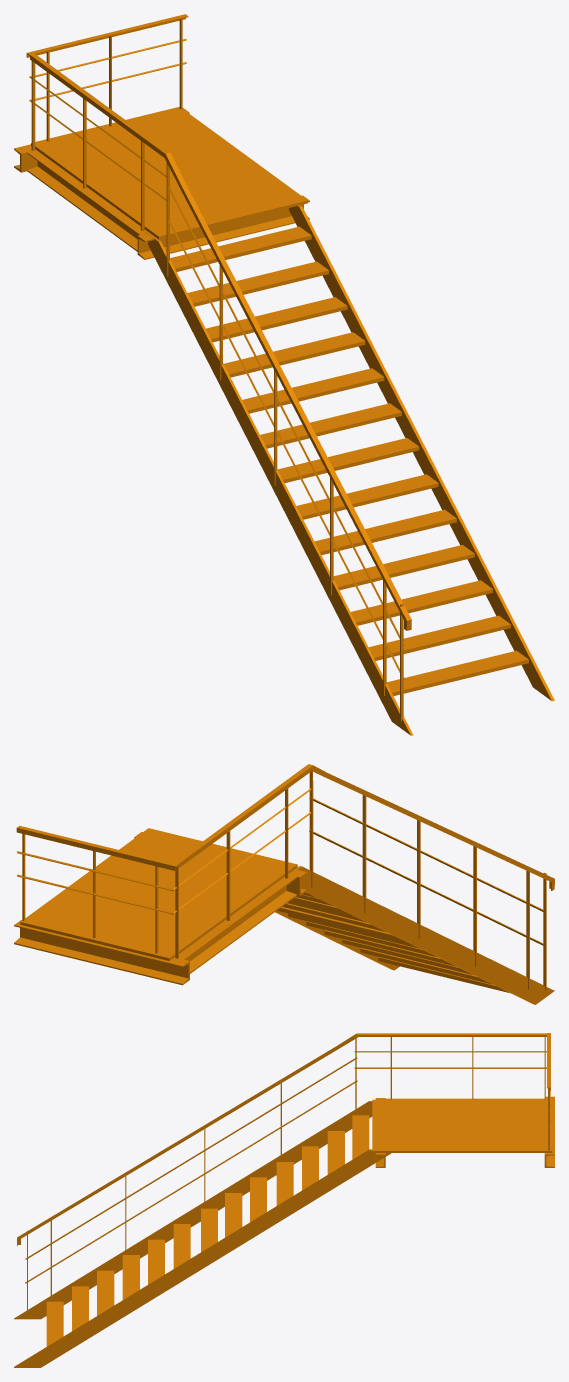
File: Stairs_03.FBX
3 views of the same model, one above another, from view 1: azimuth 30°, elevation 25°; view 2: azimuth 150°, elevation 25°; view 3: azimuth 270°, elevation 25° (orthographic). The views are drawn at different scales.
Visible parts, largest first — view 1: metal_stairs_1_01; view 2: metal_stairs_1_01; view 3: metal_stairs_1_01.
Part boxes in pixels (bbox=[...]): metal_stairs_1_01: bbox=[14, 14, 554, 735]; metal_stairs_1_01: bbox=[14, 764, 554, 1004]; metal_stairs_1_01: bbox=[14, 1033, 554, 1367].
Size of the model in its own units: 1.92 by 4.4 by 7.59.
